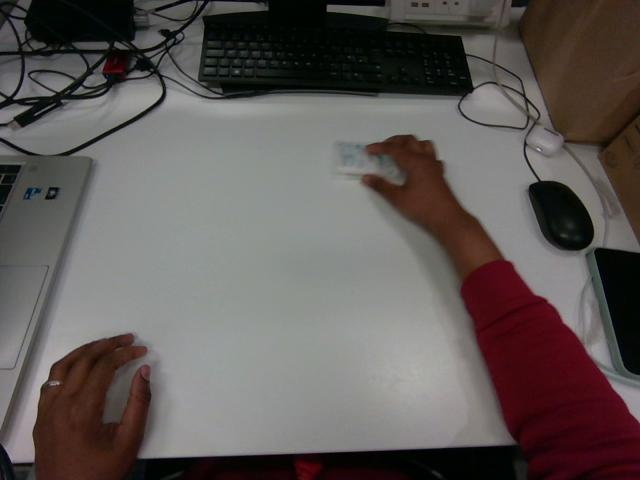gauze: (335, 144, 381, 176)
